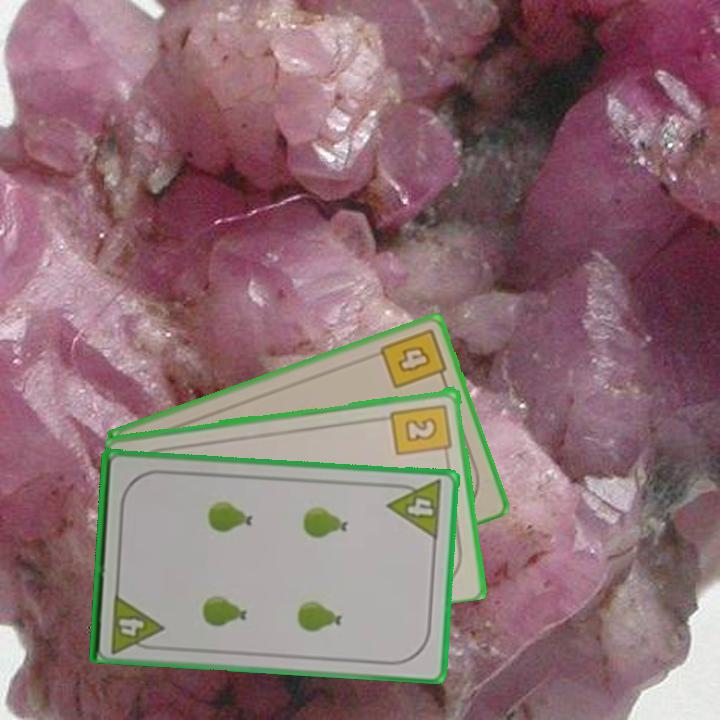2b: (388, 400, 455, 461)
4b: (376, 324, 450, 392)
4p: (384, 476, 446, 542), (107, 589, 166, 655)
